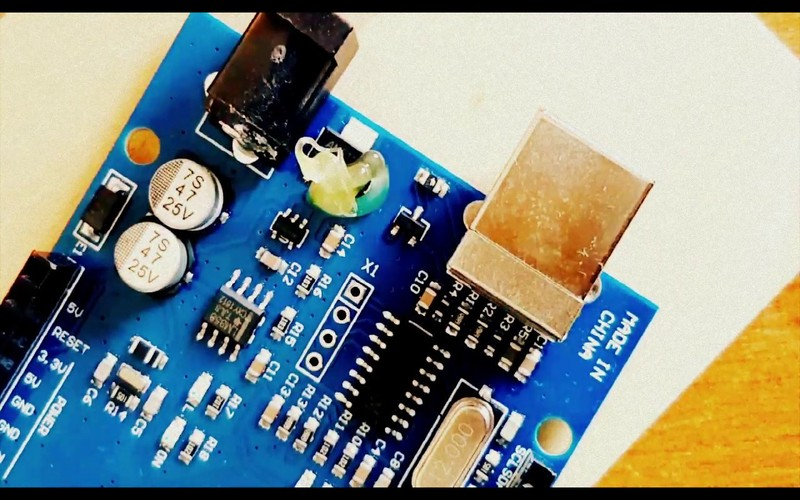Regulator: (106, 5, 689, 349)
